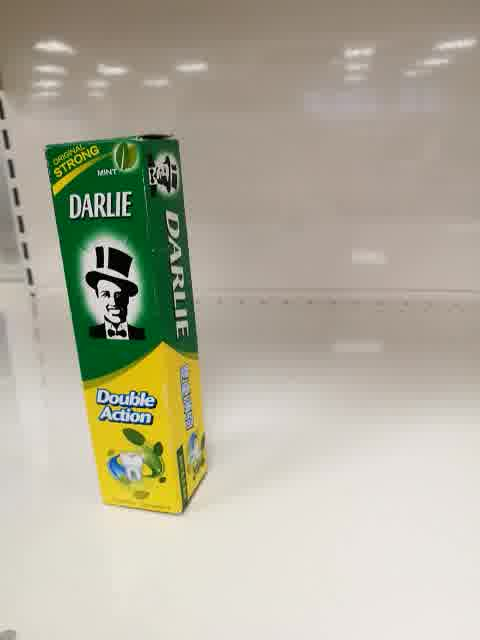toothpaste: (44, 135, 207, 518)
